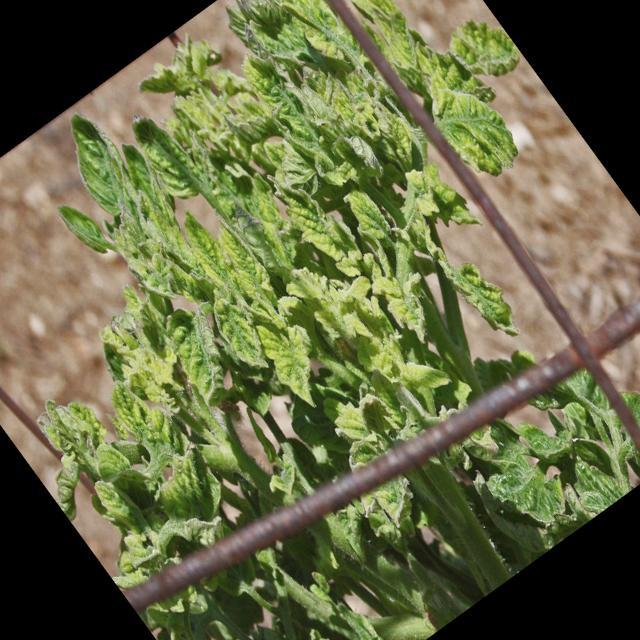Tomato yellow virus leaf: (262, 156, 386, 306), (124, 438, 247, 564), (42, 101, 158, 232), (416, 68, 534, 194), (232, 41, 344, 172), (145, 295, 260, 420), (118, 102, 220, 219), (431, 236, 532, 354), (244, 304, 346, 420), (280, 253, 380, 367), (203, 214, 301, 330), (193, 276, 290, 385), (259, 0, 371, 91), (336, 0, 440, 86), (390, 150, 480, 248), (435, 0, 527, 95), (168, 203, 251, 303), (322, 376, 404, 460), (88, 362, 166, 446), (339, 178, 411, 256), (395, 343, 461, 410), (80, 430, 142, 494)
